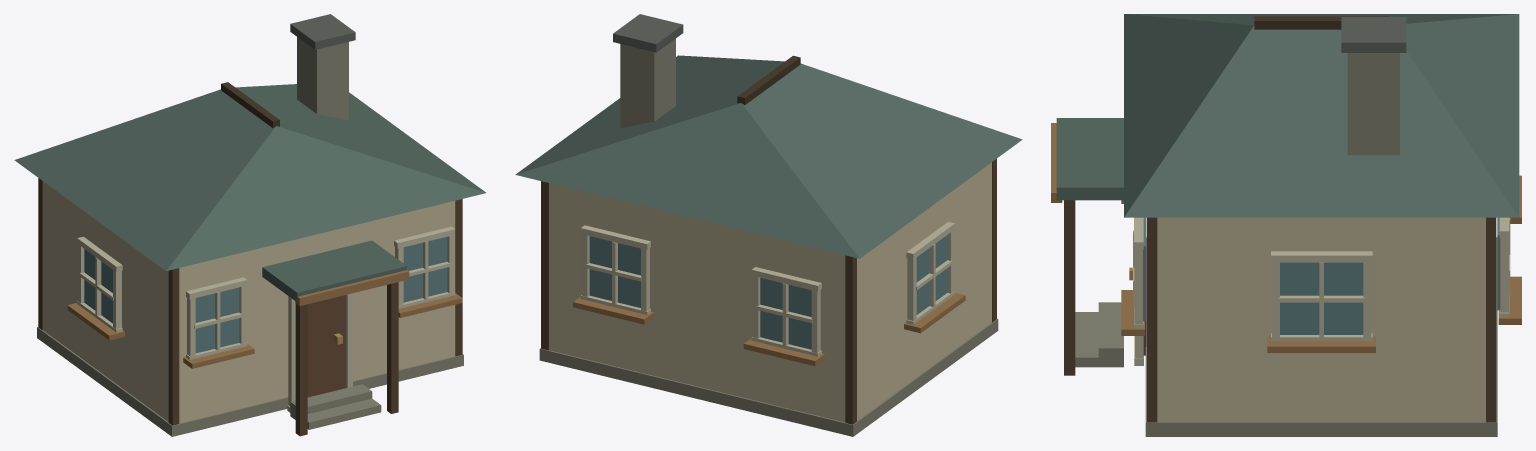
File: Building_Settlement_HippedCottage_001.glb
3 views of the same model, side by side, from view 1: azimuth 30°, elevation 25°; view 2: azimuth 150°, elevation 25°; view 3: azimuth 270°, elevation 25° (orthographic). The views are drawn at different scales.
Visible parts, largest first — view 1: Building_Settlement_HippedCottage_001; view 2: Building_Settlement_HippedCottage_001; view 3: Building_Settlement_HippedCottage_001.
Boxes of the visible parts, box(x1,y1,x2,y2) form: Building_Settlement_HippedCottage_001: box(14, 14, 486, 436); Building_Settlement_HippedCottage_001: box(515, 14, 1022, 436); Building_Settlement_HippedCottage_001: box(1051, 14, 1521, 436).
Bounding box in the file's own units: 5.6 × 4.76 × 5.42.
